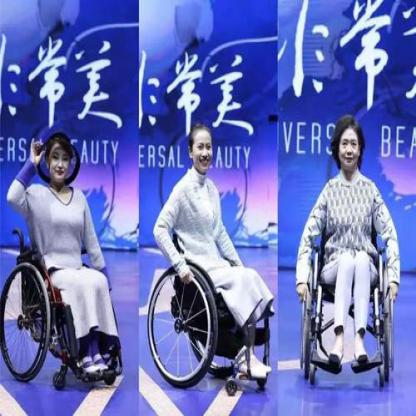wheelchair: (146, 121, 273, 397), (1, 131, 122, 387), (294, 119, 398, 385)
